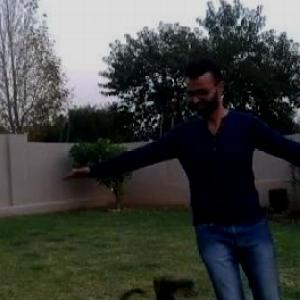land: (110, 74, 300, 299)
